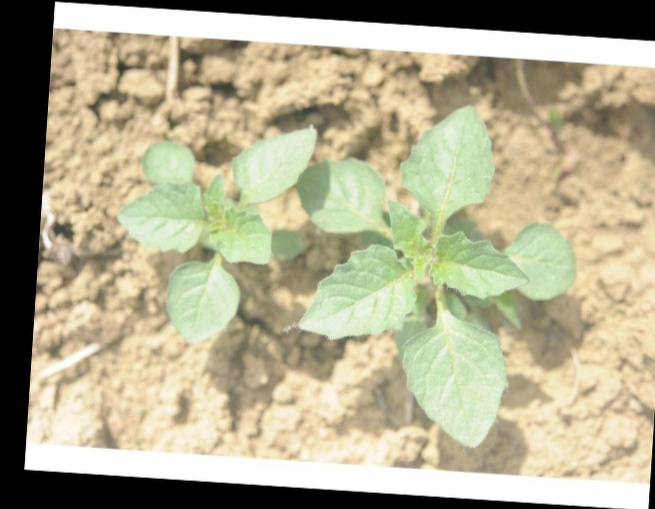nightshade: (289, 100, 574, 446), (117, 118, 309, 346)
